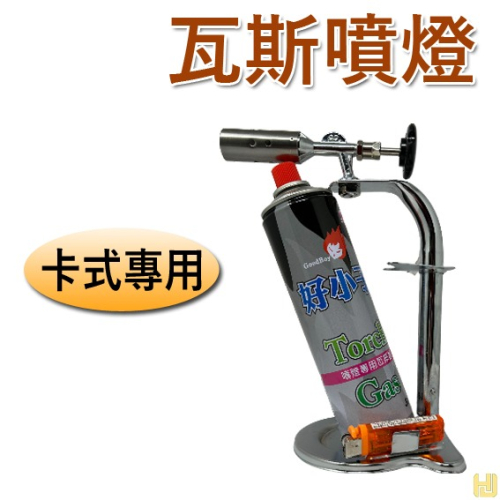gastorch: (214, 125, 470, 479)
